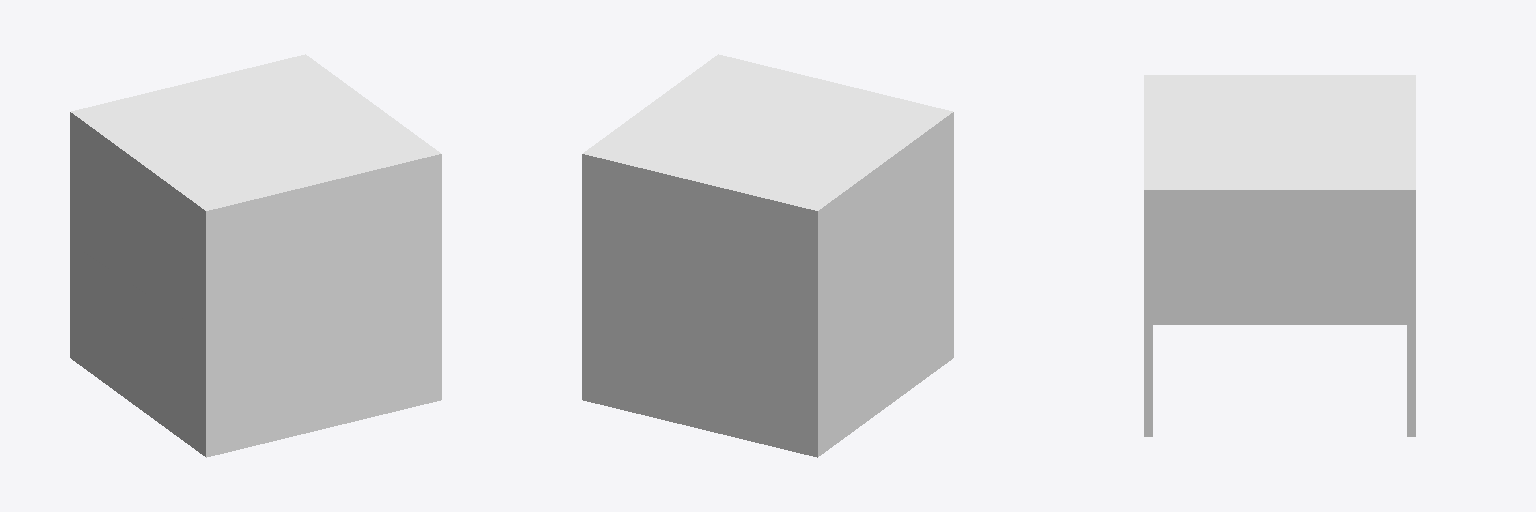
The picture shows the model from 3 angles: view 1: azimuth 30°, elevation 25°; view 2: azimuth 150°, elevation 25°; view 3: azimuth 270°, elevation 25°; orthographic projection.
Parts seen in each view (by area): view 1: test-38; view 2: test-38; view 3: test-38.
Part boxes in pixels (x1,y1,x2,y2): test-38: (70,54,441,457); test-38: (582,54,953,457); test-38: (1144,75,1415,436).
Bounding box in the file's own units: 32 × 32 × 32.